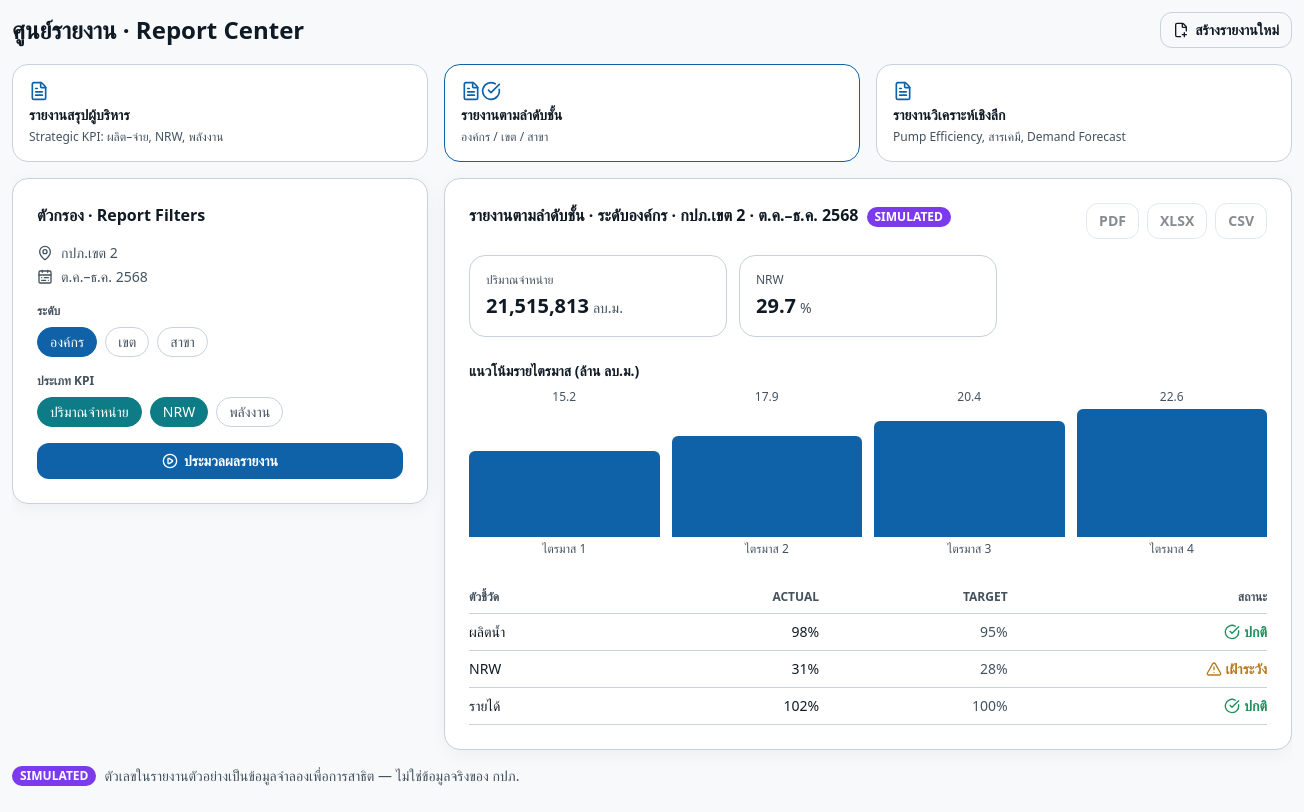
Test: ReportCenterScreen › holds a template change pending, then reflects it in the report header on generate
The width and height of the screenshot is (1304, 812).
expect the heading "รายงานตามลำดับชั้น" is shown: met, box [469, 204, 585, 226]
Step 1. Click the radio button labelled "รายงานสรุปผู้บริหาร Strategic KPI: ผลิต–จ่าย, NRW, พลังงาน" → (79, 114), box [12, 64, 428, 162]
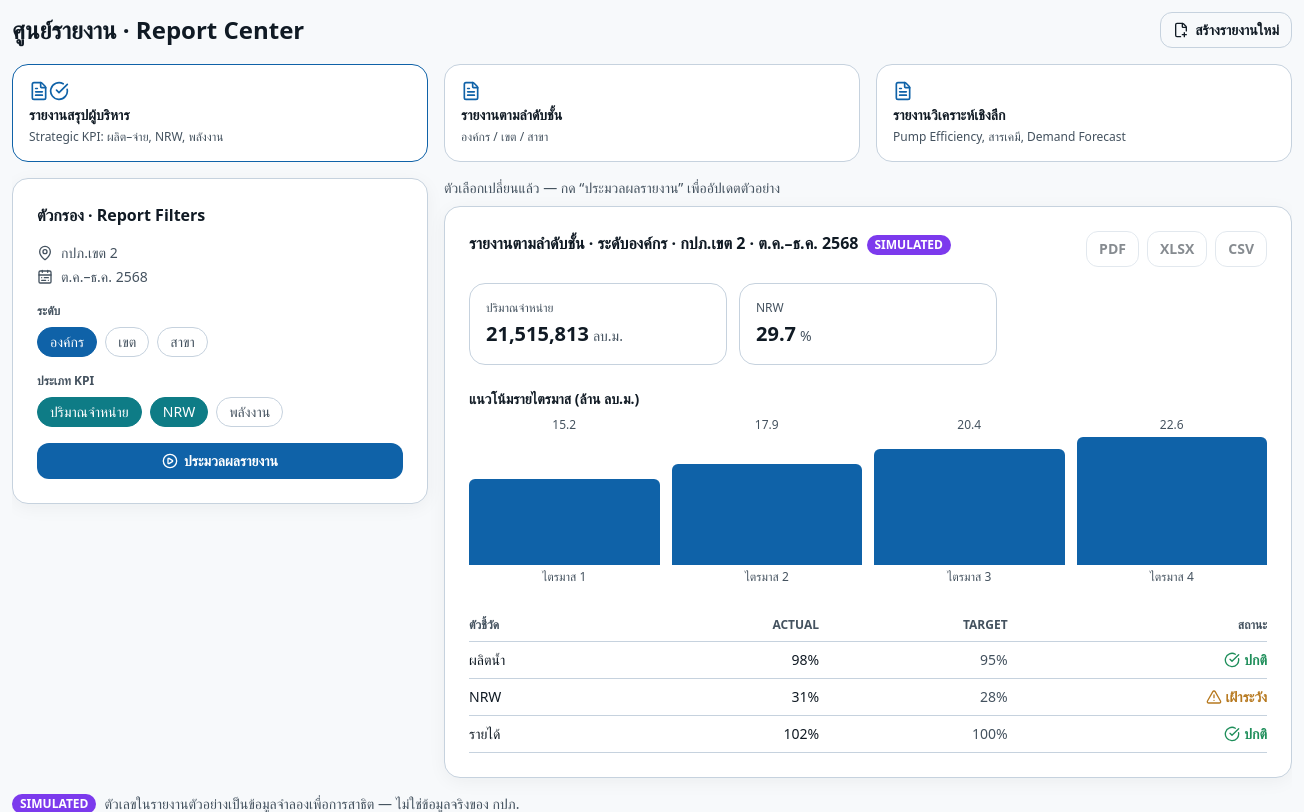
expect the heading "รายงานตามลำดับชั้น" is shown: met, box [469, 232, 585, 254]
expect the message "ตัวเลือกเปลี่ยนแล้ว — กด “ประมวลผลรายงาน” เพื่ออัปเดตตัวอย่าง" is shown: met, box [444, 178, 780, 197]
Step 2. Click the button "ประมวลผลรายงาน" → (220, 461), box [37, 443, 403, 479]
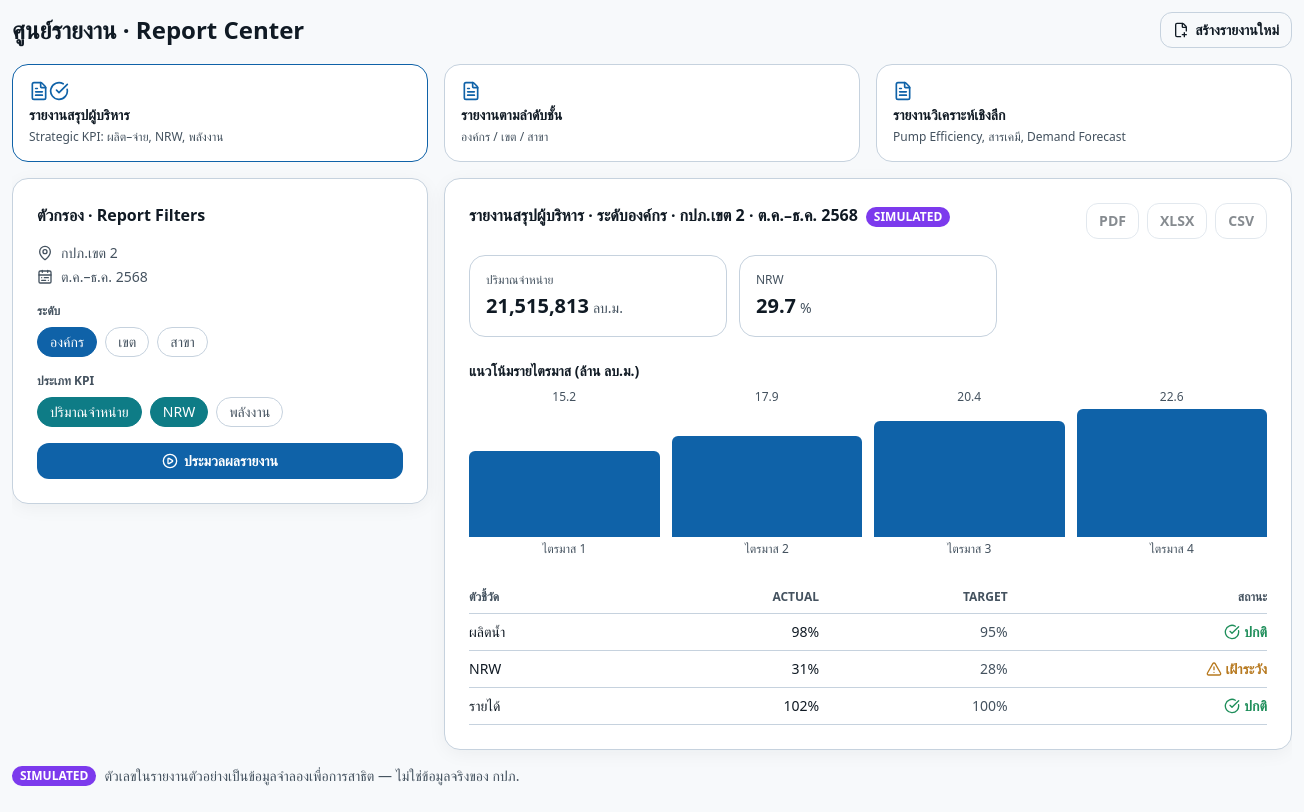
expect the heading "รายงานสรุปผู้บริหาร" is shown: met, box [469, 204, 584, 226]
